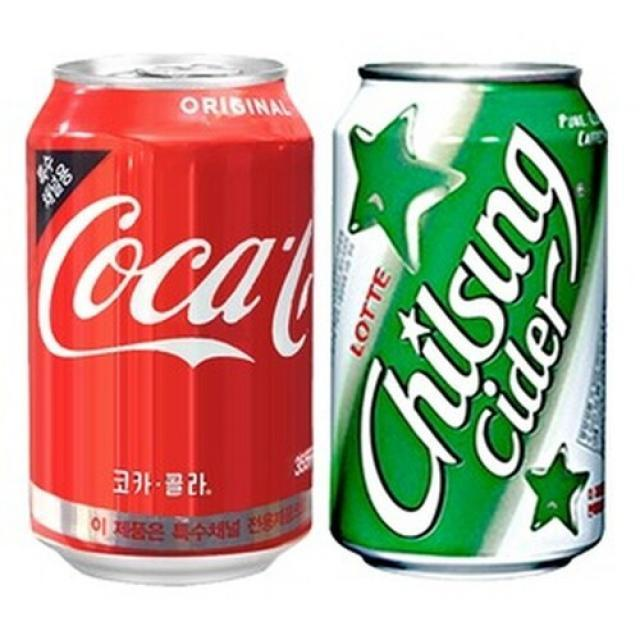coca-cola: (22, 47, 318, 586)
